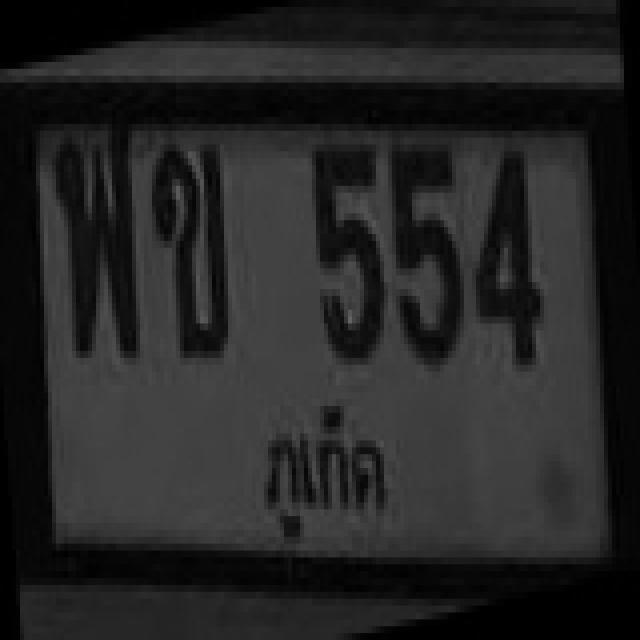11KhorKhai: (153, 124, 246, 398)
4: (473, 119, 558, 393)
40ForFun: (47, 115, 152, 386)
5: (303, 124, 397, 405), (386, 127, 476, 406)
Phuket: (236, 386, 420, 560)
